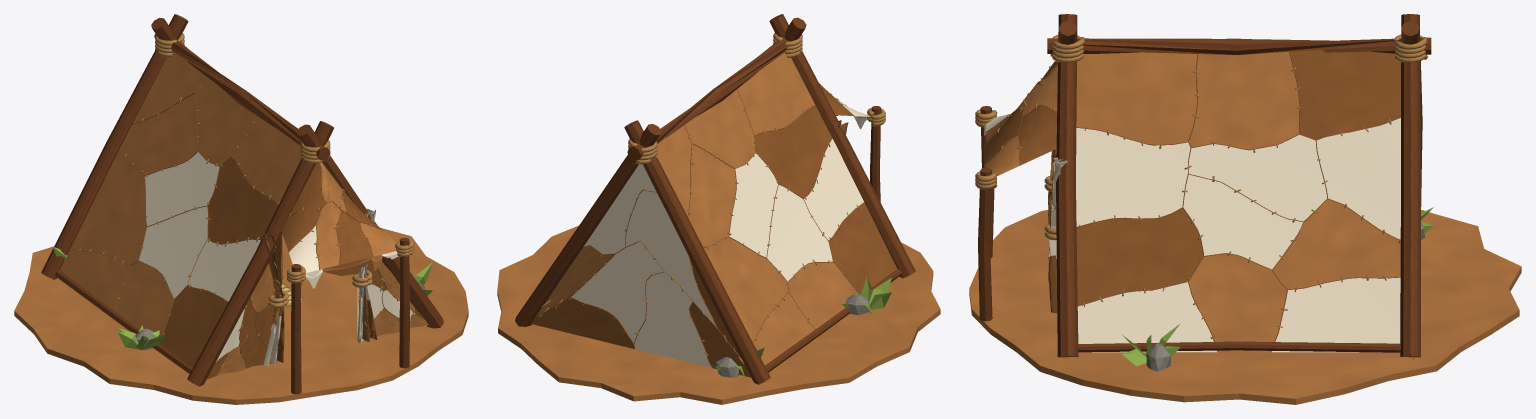
Rendered from aframe_hide_tent.glb.
3 views of the same model, side by side, from view 1: azimuth 30°, elevation 25°; view 2: azimuth 150°, elevation 25°; view 3: azimuth 270°, elevation 25° (orthographic). The views are drawn at different scales.
Parts seen in each view (by area): view 1: A-frame sloping hide wall irregular hide patch (×3), Sandy island, A-frame crossed rafter, Entry hide awning irregular hide patch (×3), A-frame tied front panel irregular hide patch (×3), Tied doorway hide flap irregular hide patch (×3), Awning front pole, A-frame ridge pole, A-frame sloping hide wall uneven seam cord, A-frame lower wall rail, Tropical leaves, A-frame ridge lashing (+6 smaller); view 2: A-frame sloping hide wall irregular hide patch (×3), Sandy island, A-frame rear hide wall irregular hide patch (×3), A-frame crossed rafter, A-frame ridge pole, A-frame sloping hide wall uneven seam cord, A-frame lower wall rail, Tropical leaves, Awning front pole, A-frame rear hide wall uneven seam cord, Ground rock, A-frame ridge lashing (+2 smaller); view 3: A-frame sloping hide wall irregular hide patch (×3), Sandy island, A-frame crossed rafter, A-frame ridge pole, Entry hide awning irregular hide patch (×2), A-frame lower wall rail, Awning front pole, A-frame sloping hide wall uneven seam cord, A-frame ridge lashing, Tied doorway hide flap irregular hide patch (×2), Tropical leaves, A-frame sloping hide wall irregular hand stitch (+2 smaller).
Boxes of the visible parts, x1,y1,x2,y2 form: A-frame sloping hide wall irregular hide patch (×3): (60,52,301,367); Sandy island: (14,227,468,404); A-frame crossed rafter: (41,14,443,386); Entry hide awning irregular hide patch (×3): (281,162,396,272); A-frame tied front panel irregular hide patch (×3): (207,260,427,378); Tied doorway hide flap irregular hide patch (×3): (262,208,377,366); Awning front pole: (291,237,409,394); A-frame ridge pole: (154,34,330,160); A-frame sloping hide wall uneven seam cord: (69,75,278,335); A-frame lower wall rail: (55,270,192,373); Tropical leaves: (53,246,432,350); A-frame ridge lashing: (155,33,330,163); A-frame sloping hide wall irregular hide patch (×3): (657,52,897,365); Sandy island: (497,225,940,404); A-frame rear hide wall irregular hide patch (×3): (531,164,750,377); A-frame crossed rafter: (515,14,915,384); A-frame ridge pole: (627,34,802,160); A-frame sloping hide wall uneven seam cord: (684,89,864,342); A-frame lower wall rail: (765,269,901,372); Tropical leaves: (715,276,891,376); Awning front pole: (870,106,880,201); A-frame rear hide wall uneven seam cord: (534,189,742,368); Ground rock: (715,293,869,377); A-frame ridge lashing: (628,33,802,164); A-frame sloping hide wall irregular hide patch (×3): (1076,50,1400,352); Sandy island: (969,209,1521,404); A-frame crossed rafter: (1056,14,1422,357); A-frame ridge pole: (1047,37,1431,54); Entry hide awning irregular hide patch (×2): (986,61,1057,175); A-frame lower wall rail: (1078,341,1400,352); Awning front pole: (978,106,994,321); A-frame sloping hide wall uneven seam cord: (1076,52,1400,352); A-frame ridge lashing: (1050,34,1427,62); Tied doorway hide flap irregular hide patch (×2): (1048,153,1067,313); Tropical leaves: (1122,207,1433,366); A-frame sloping hide wall irregular hand stitch: (1079,67,1400,338).
Size of the model in its own units: 4.31 by 2.5 by 4.52.
Materials: 8 (5 with a texture image).
